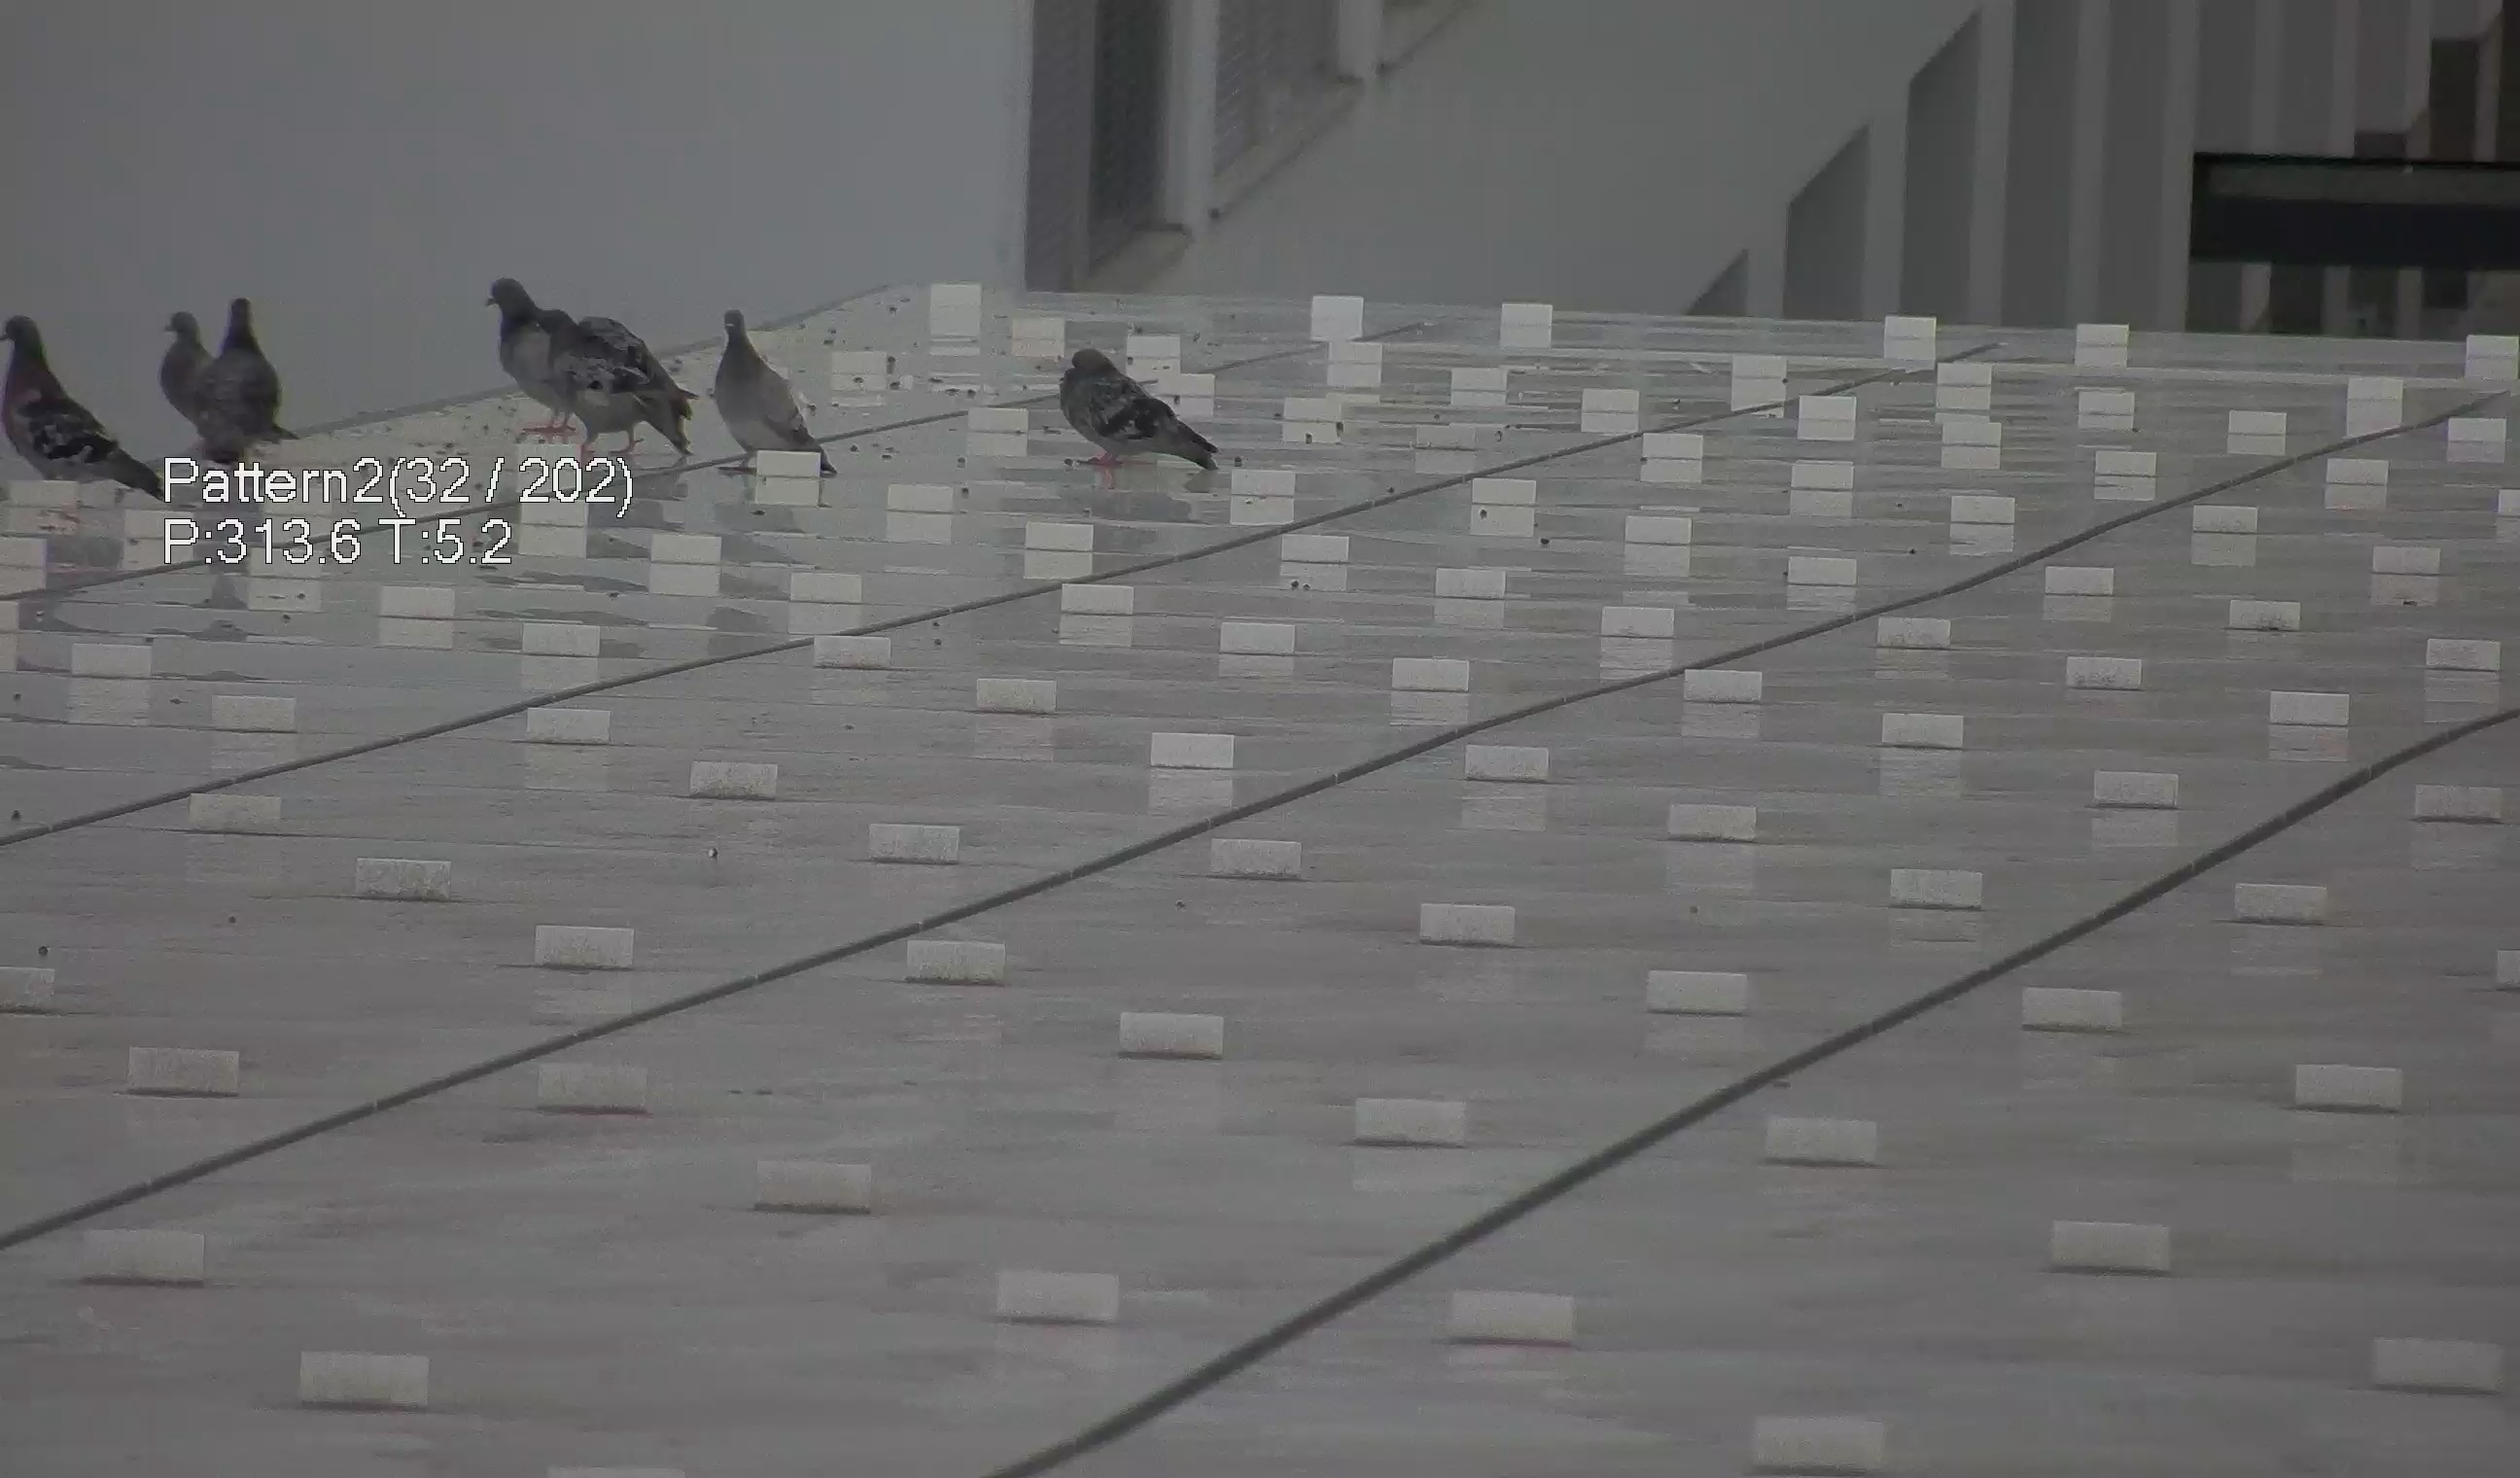Pigeon: (2, 308, 167, 503), (1045, 331, 1222, 484), (684, 301, 828, 468), (540, 310, 695, 465), (209, 289, 301, 477), (487, 276, 577, 417), (146, 301, 225, 450)
